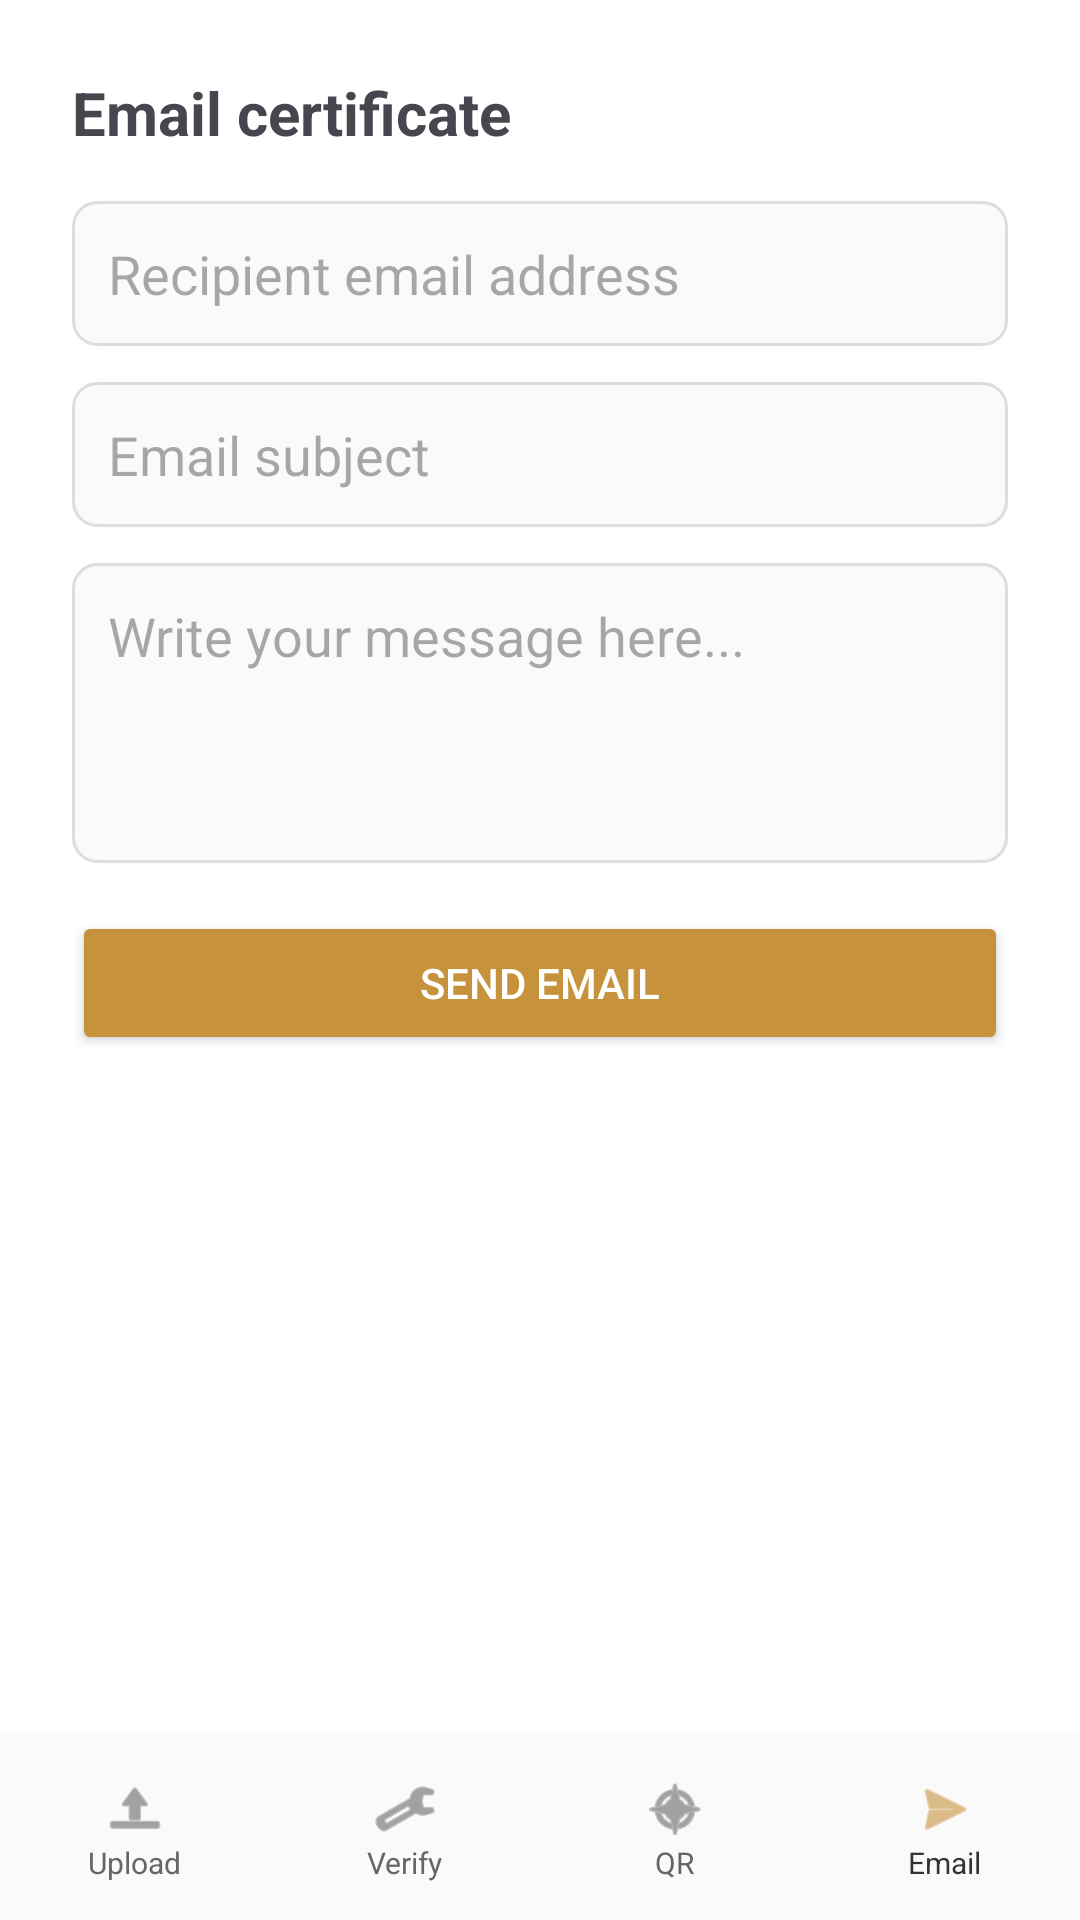

Where icons sit on this 1080×1920 app screen, as bbox=[x1, y1, x2, y2]:
compass: bbox=[649, 1783, 701, 1835]
manage: bbox=[375, 1786, 435, 1832]
send: bbox=[924, 1789, 967, 1830]
